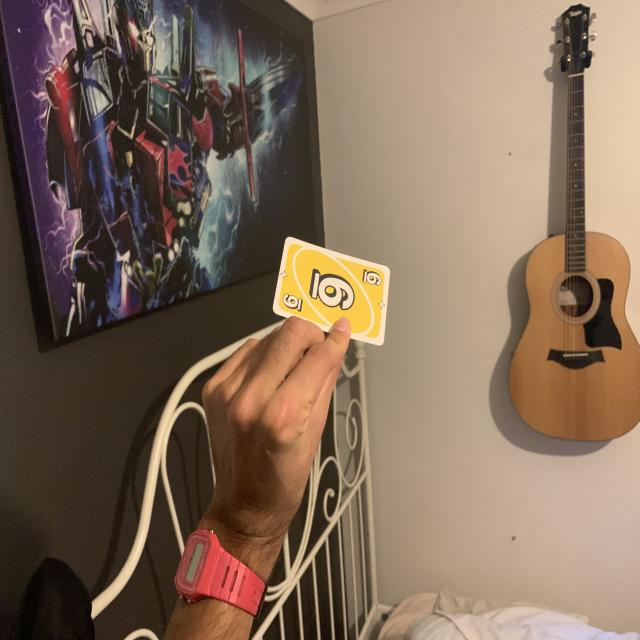lyellow-6: (277, 282, 307, 316)
